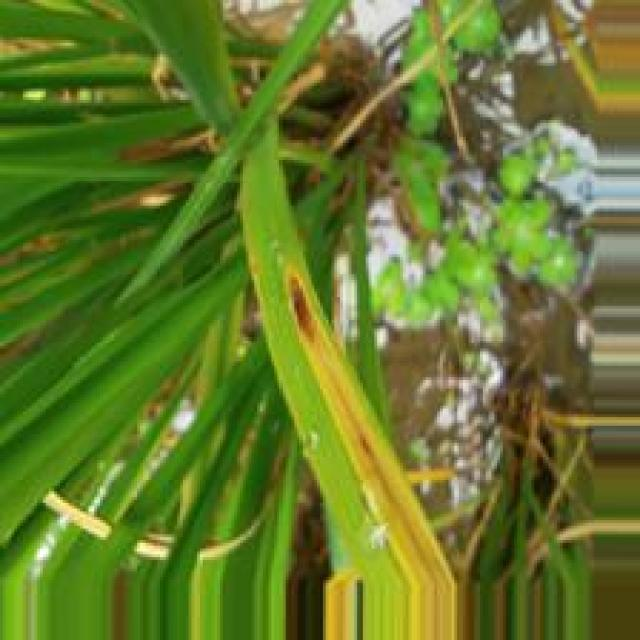Narrow_Brown_Leaf_Spot: (269, 263, 461, 638)
